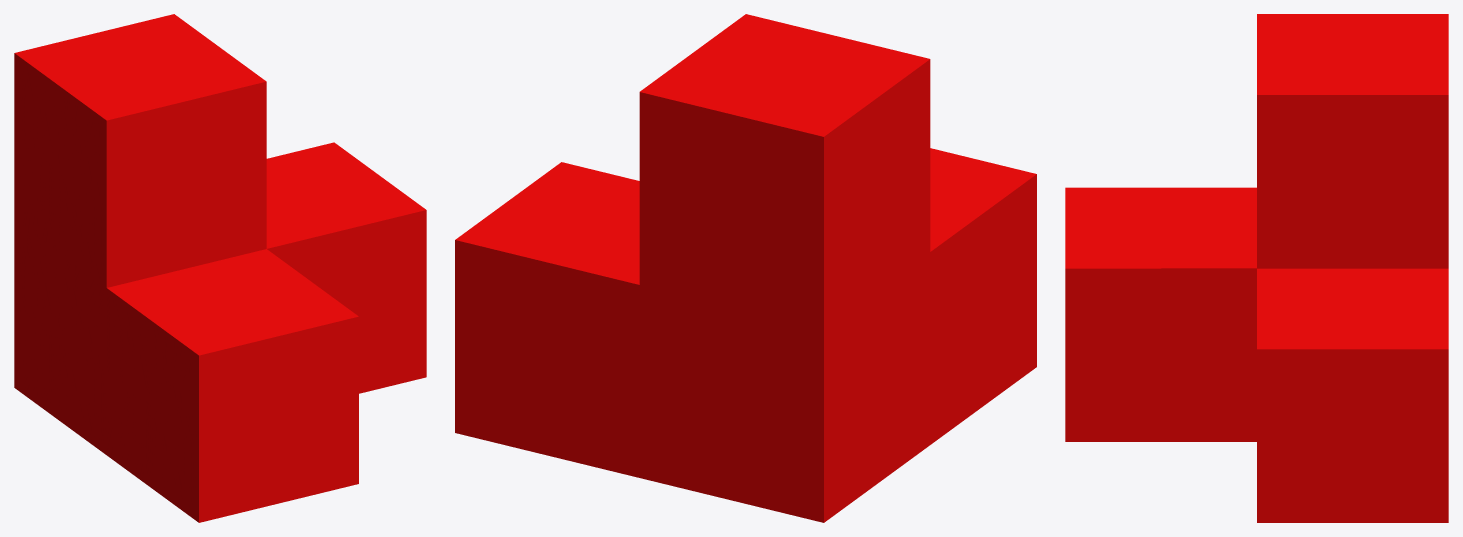
The model's file is red.obj.
3 views of the same model, side by side, from view 1: azimuth 30°, elevation 25°; view 2: azimuth 150°, elevation 25°; view 3: azimuth 270°, elevation 25° (orthographic). The views are drawn at different scales.
Size of the model in its own units: 2 by 2 by 2.
Materials: 1 (1 with a texture image).
